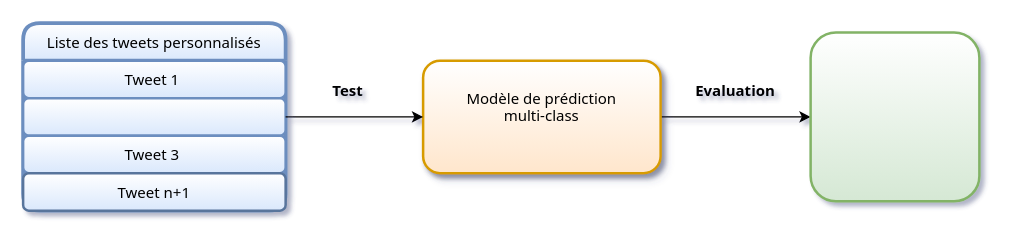
The diagram is 1010 pixels wide and 241 high, and some of its shapes have lost their labels. The centre of each missing label's shape, as x and y in pixels:
Pourcentage des catégories identifiés: [894,116]
Tweet 2: [153,116]
